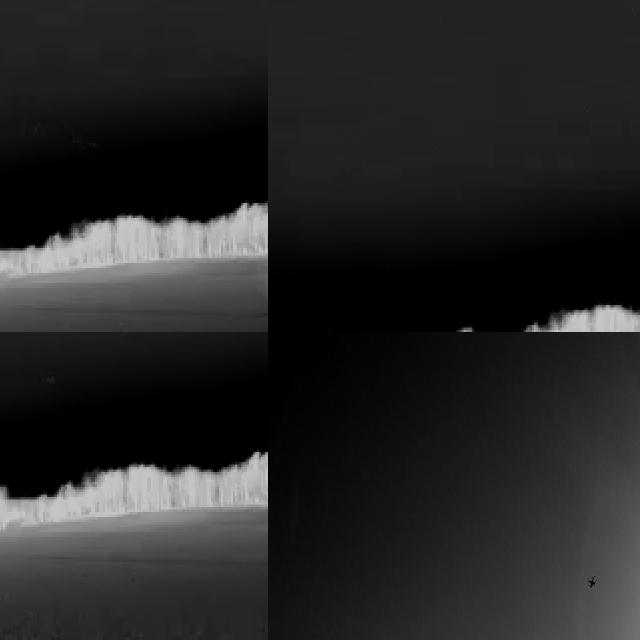0: (78, 133, 108, 163), (35, 368, 61, 401)
drone: (586, 569, 600, 590)
